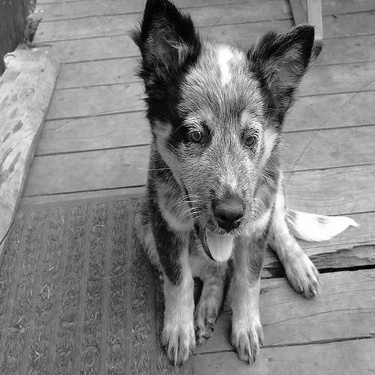dog: (114, 1, 367, 370)
